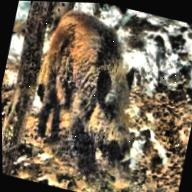boar: (0, 0, 173, 180)
